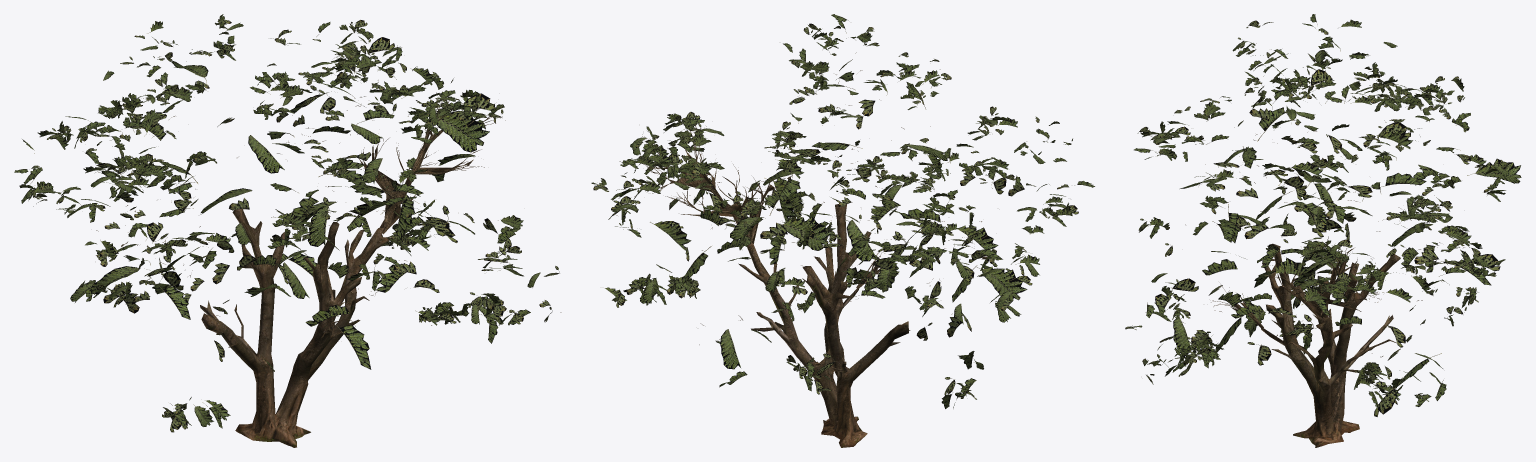
The model's file is canopy_tree.gltf.
The picture shows the model from 3 angles, left to right: view 1: azimuth 30°, elevation 25°; view 2: azimuth 150°, elevation 25°; view 3: azimuth 270°, elevation 25°; orthographic projection. The views are drawn at different scales.
Parts seen in each view (by area): view 1: canopy_tree; view 2: canopy_tree; view 3: canopy_tree.
Part boxes in pixels (left/top/right/bottom): canopy_tree: left=14, top=14, right=561, bottom=447; canopy_tree: left=591, top=14, right=1094, bottom=447; canopy_tree: left=1125, top=14, right=1521, bottom=447.
Size of the model in its own units: 23.77 by 19.24 by 18.18.
2 materials, 2 textured.
